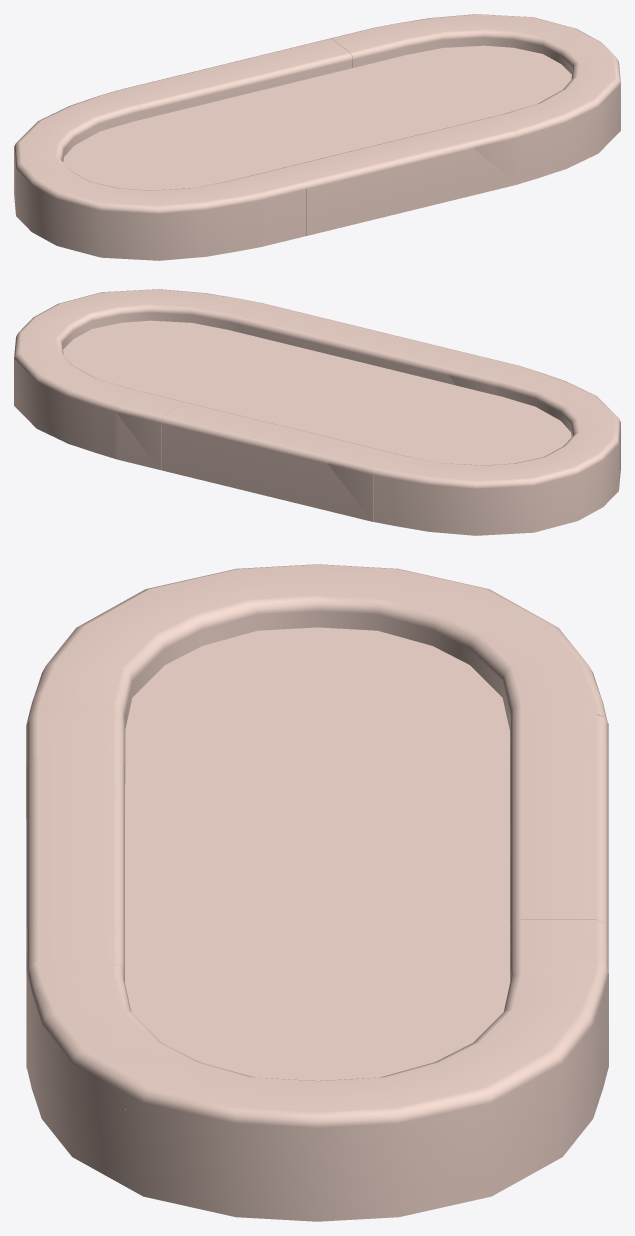
File: Oval Curb.fbx
The picture shows the model from 3 angles, top to bottom: view 1: azimuth 30°, elevation 25°; view 2: azimuth 150°, elevation 25°; view 3: azimuth 270°, elevation 25°; orthographic projection. The views are drawn at different scales.
Visible parts, largest first — view 1: Oval curb; view 2: Oval curb; view 3: Oval curb.
Boxes of the visible parts, <box> form: Oval curb: <box>14,14,620,260</box>; Oval curb: <box>14,289,620,535</box>; Oval curb: <box>26,564,608,1221</box>.
Bounding box in the file's own units: 343 × 29.98 × 151.
